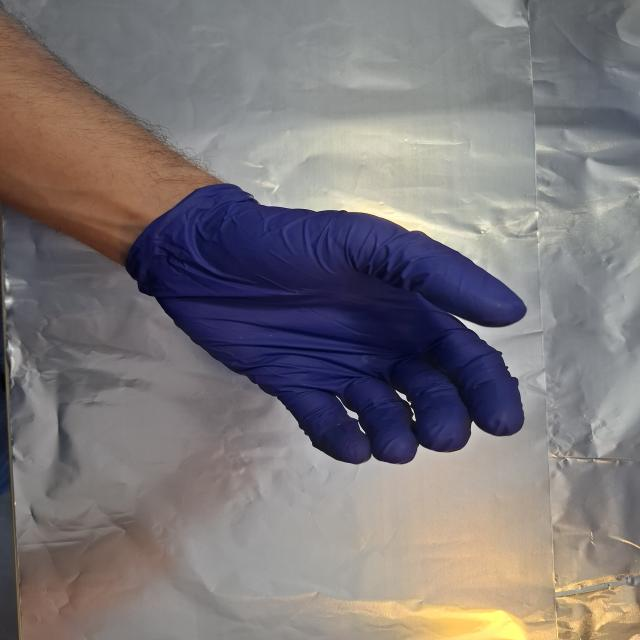glove_on: (125, 183, 530, 467)
